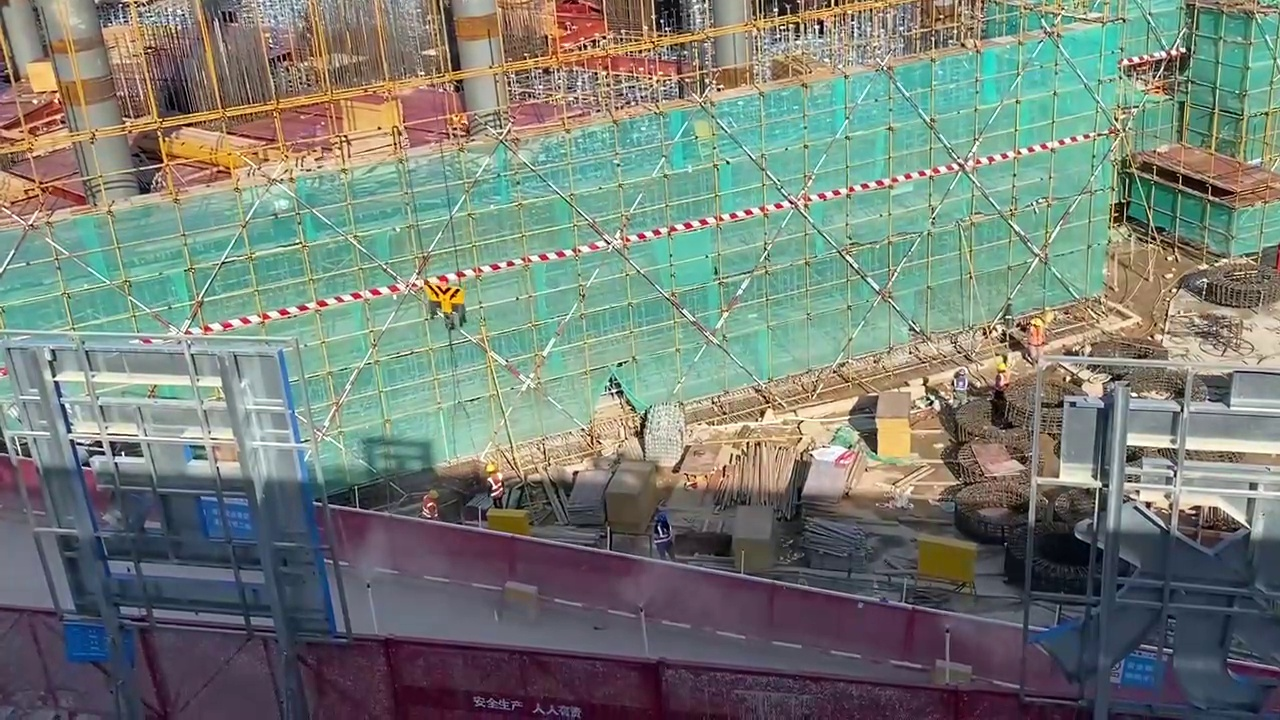board: (874, 390, 912, 459)
fence: (3, 605, 1018, 715)
hook: (428, 285, 466, 310)
person: (650, 513, 676, 562), (485, 463, 511, 510), (419, 487, 444, 522)
wood: (730, 447, 799, 509)
